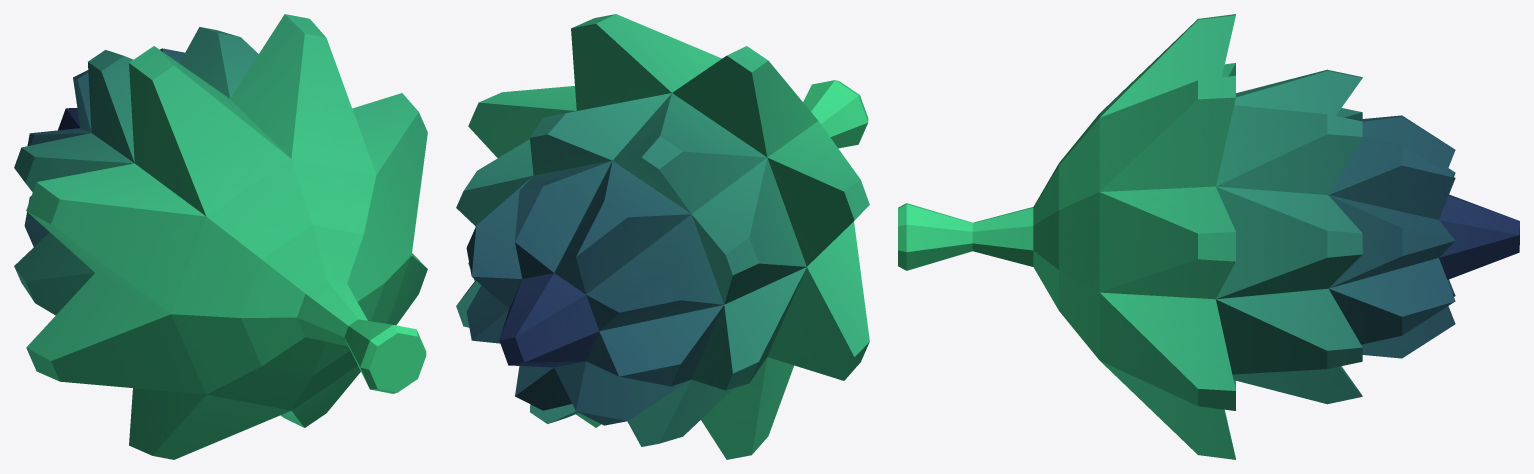
Rendered from SM_PineCone_01.fbx.
3 views of the same model, side by side, from view 1: azimuth 30°, elevation 25°; view 2: azimuth 150°, elevation 25°; view 3: azimuth 270°, elevation 25° (orthographic). The views are drawn at different scales.
Visible parts, largest first — view 1: SM_PineCone_01; view 2: SM_PineCone_01; view 3: SM_PineCone_01.
Part boxes in pixels (x1=…): SM_PineCone_01: x1=14, y1=14, x2=427, y2=459; SM_PineCone_01: x1=456, y1=14, x2=869, y2=459; SM_PineCone_01: x1=898, y1=14, x2=1519, y2=459.
Size of the model in its own units: 1.83 by 1.83 by 2.69.
